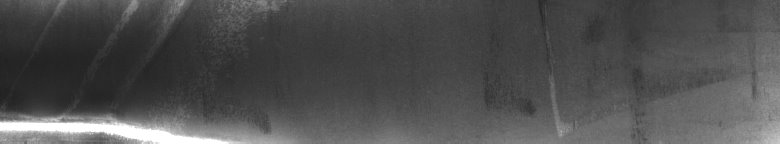ke: (4, 4, 282, 136)
